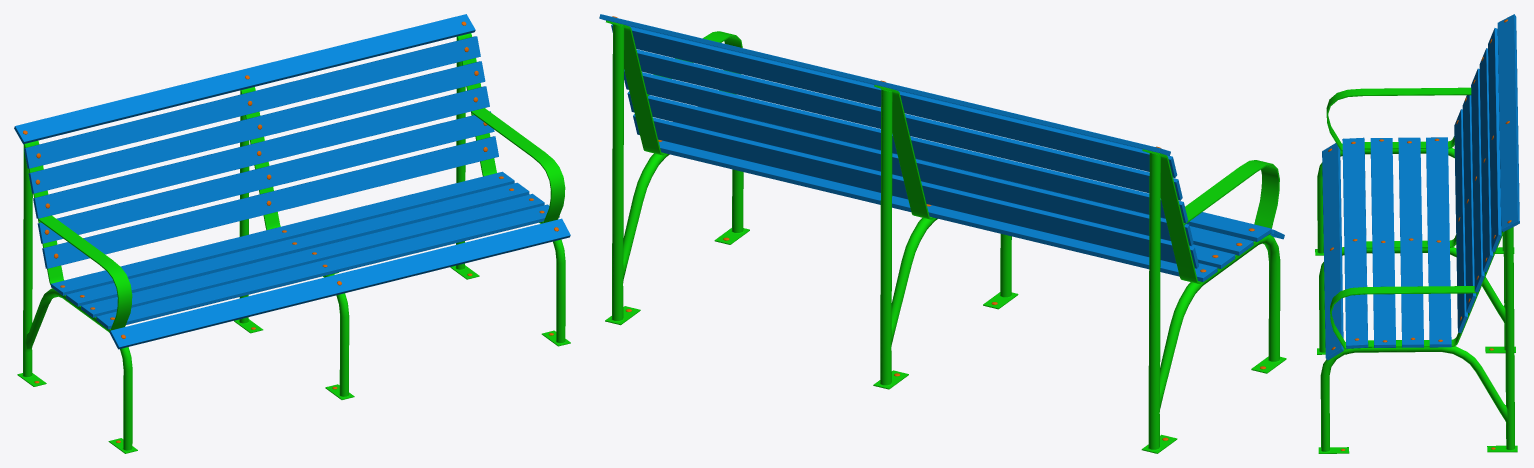
Rendered from Bench.fbx.
3 renders of one model, left to right at view 1: azimuth 30°, elevation 25°; view 2: azimuth 150°, elevation 25°; view 3: azimuth 270°, elevation 25°, orthographic. The views are drawn at different scales.
Parts seen in each view (by area): view 1: Bench; view 2: Bench; view 3: Bench.
Boxes of the visible parts, bbox=[...] form: Bench: bbox=[14, 14, 570, 453]; Bench: bbox=[599, 14, 1286, 453]; Bench: bbox=[1315, 14, 1519, 453].
Size of the model in its own units: 52.23 by 27.51 by 21.79.
